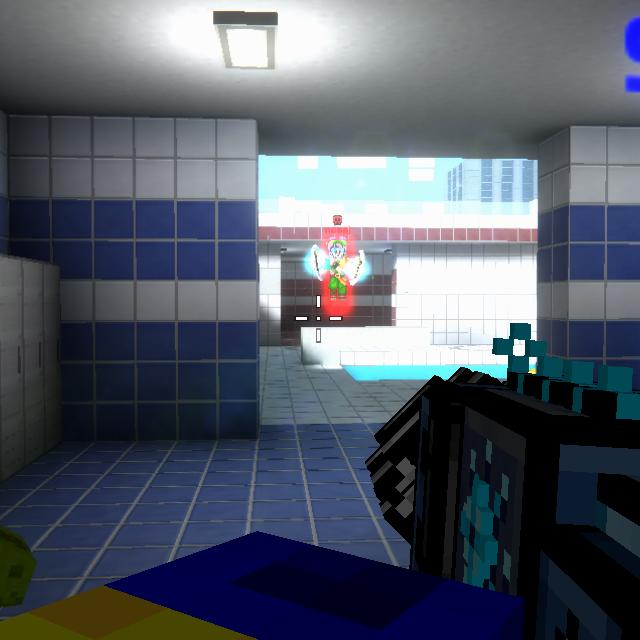Enemy: (328, 240, 347, 300)
